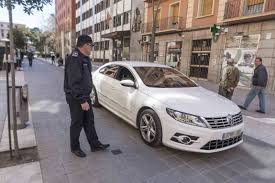car: (86, 61, 245, 156)
